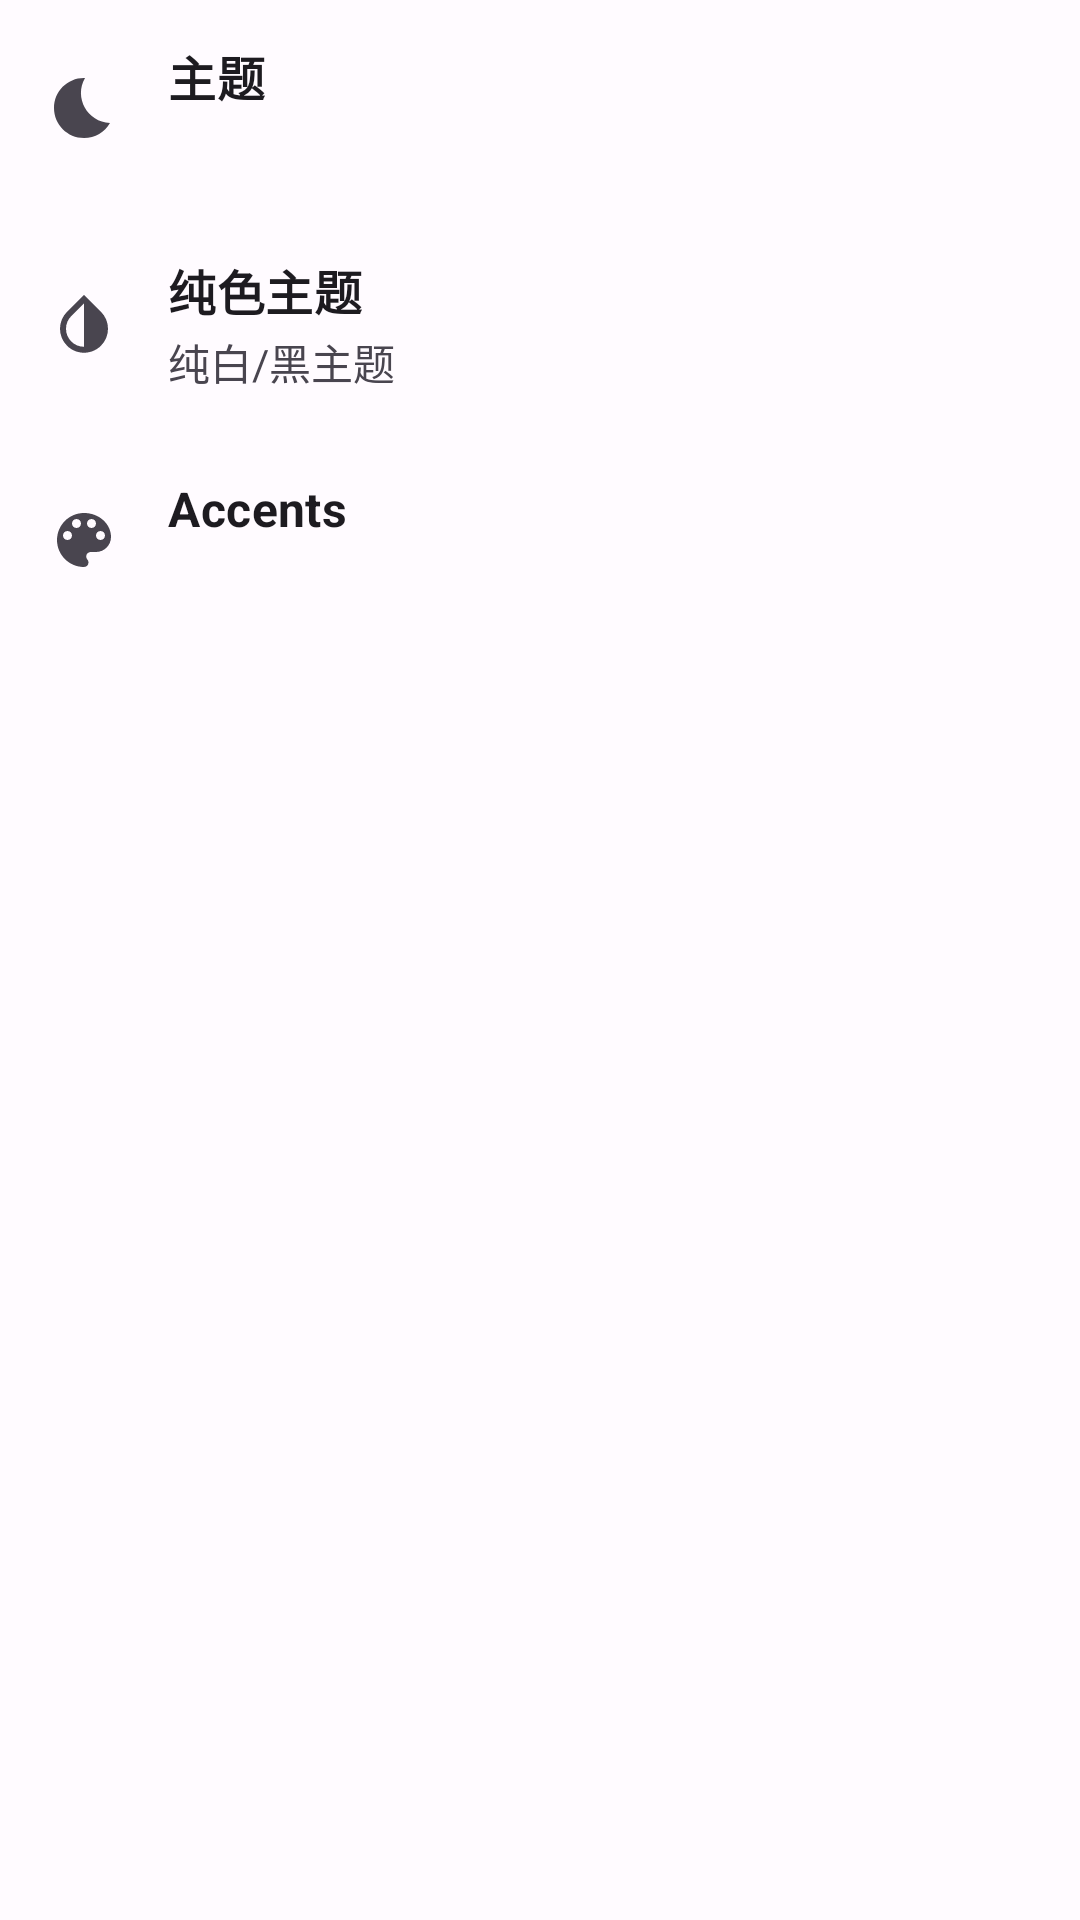

Icon bounding boxes for this 1080px×1920px phone screenshot, format bbox(x1, y1, x2, y2):
bedtime: bbox(54, 78, 110, 138)
invert colors: bbox(60, 295, 108, 353)
